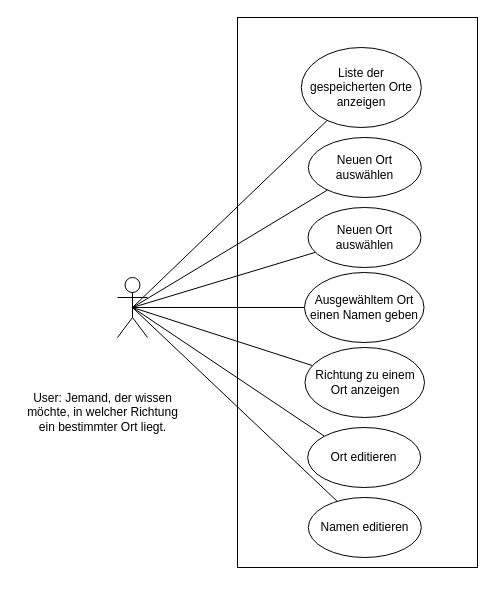
This 495x593 diagram has some shape labels left out. The box of each missing label's shape, as (x1, y1, x2, y2) in pixels:
Richtungsanzeiger: (236, 16, 478, 568)
User: (116, 276, 148, 338)
